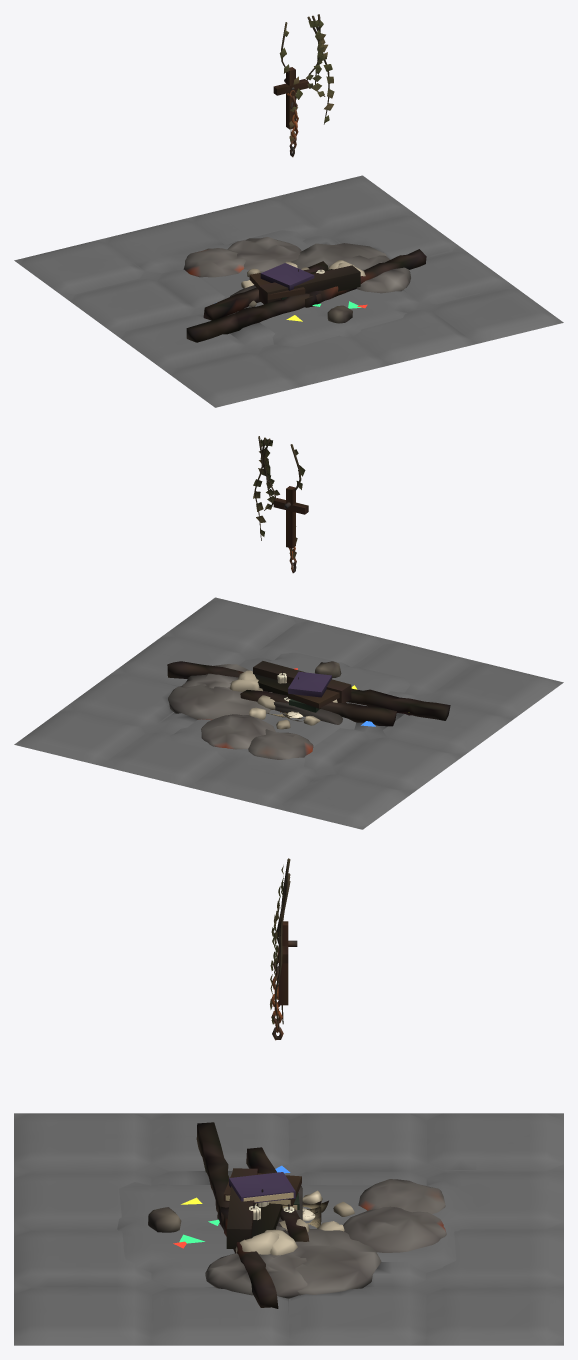
The model's file is bioma_abadia_alta.glb.
3 views of the same model, one above another, from view 1: azimuth 30°, elevation 25°; view 2: azimuth 150°, elevation 25°; view 3: azimuth 270°, elevation 25° (orthographic). The views are drawn at different scales.
Visible parts, largest first — view 1: piso_b_malla, piso_e_malla, piso_d_malla, piso_a_malla, piso_c_malla, det_pie_vigas_malla, det_muro_hiedra_malla, det_pie_libros_malla, det_muro_cruz_malla; view 2: piso_b_malla, piso_e_malla, piso_d_malla, piso_a_malla, piso_c_malla, det_pie_libros_malla, det_pie_vigas_malla, det_pie_escombro_malla, det_muro_hiedra_malla, det_muro_cruz_malla; view 3: piso_b_malla, piso_d_malla, piso_e_malla, piso_a_malla, piso_c_malla, det_pie_libros_malla, det_pie_vigas_malla, det_pie_escombro_malla, det_muro_hiedra_malla, det_muro_cruz_malla, det_piedritas_malla.
Part boxes in pixels (<box>): piso_b_malla: <box>121,226,505,404</box>; piso_e_malla: <box>14,175,563,407</box>; piso_d_malla: <box>21,220,419,368</box>; piso_a_malla: <box>20,215,557,347</box>; piso_c_malla: <box>249,193,479,383</box>; det_pie_vigas_malla: <box>259,265,360,304</box>; det_muro_hiedra_malla: <box>279,14,334,142</box>; det_pie_libros_malla: <box>249,263,314,299</box>; det_muro_cruz_malla: <box>273,67,308,129</box>; piso_b_malla: <box>116,615,556,759</box>; piso_e_malla: <box>14,597,563,829</box>; piso_d_malla: <box>169,652,506,826</box>; piso_a_malla: <box>71,600,481,826</box>; piso_c_malla: <box>46,642,470,760</box>; det_pie_libros_malla: <box>288,671,351,712</box>; det_pie_vigas_malla: <box>253,661,351,712</box>; det_pie_escombro_malla: <box>229,670,342,724</box>; det_muro_hiedra_malla: <box>253,436,305,561</box>; det_muro_cruz_malla: <box>273,486,308,548</box>; piso_b_malla: <box>14,1113,445,1344</box>; piso_d_malla: <box>117,1113,563,1287</box>; piso_e_malla: <box>14,1113,563,1345</box>; piso_a_malla: <box>14,1113,563,1345</box>; piso_c_malla: <box>14,1165,545,1345</box>; det_pie_libros_malla: <box>223,1172,301,1210</box>; det_pie_vigas_malla: <box>226,1168,282,1248</box>; det_pie_escombro_malla: <box>235,1185,309,1255</box>; det_muro_hiedra_malla: <box>270,858,290,1028</box>; det_muro_cruz_malla: <box>278,921,288,1005</box>; det_piedritas_malla: <box>302,1190,354,1231</box>.
Size of the model in its own units: 2 by 1.48 by 2.
